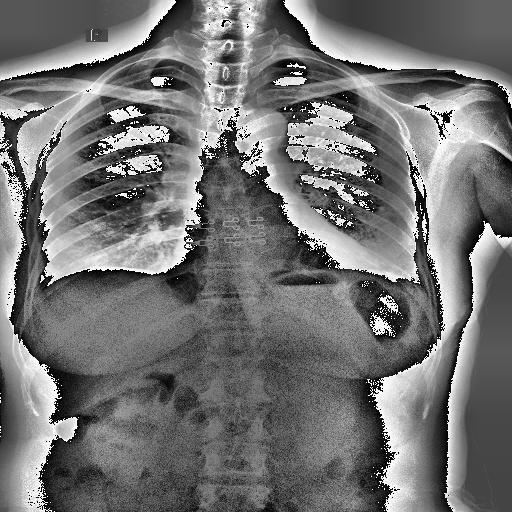0- Aortic enlargement: (234, 108, 288, 180), (236, 108, 290, 170), (230, 106, 288, 146)
3- Cardiomegaly: (166, 242, 381, 292), (168, 238, 381, 270)
